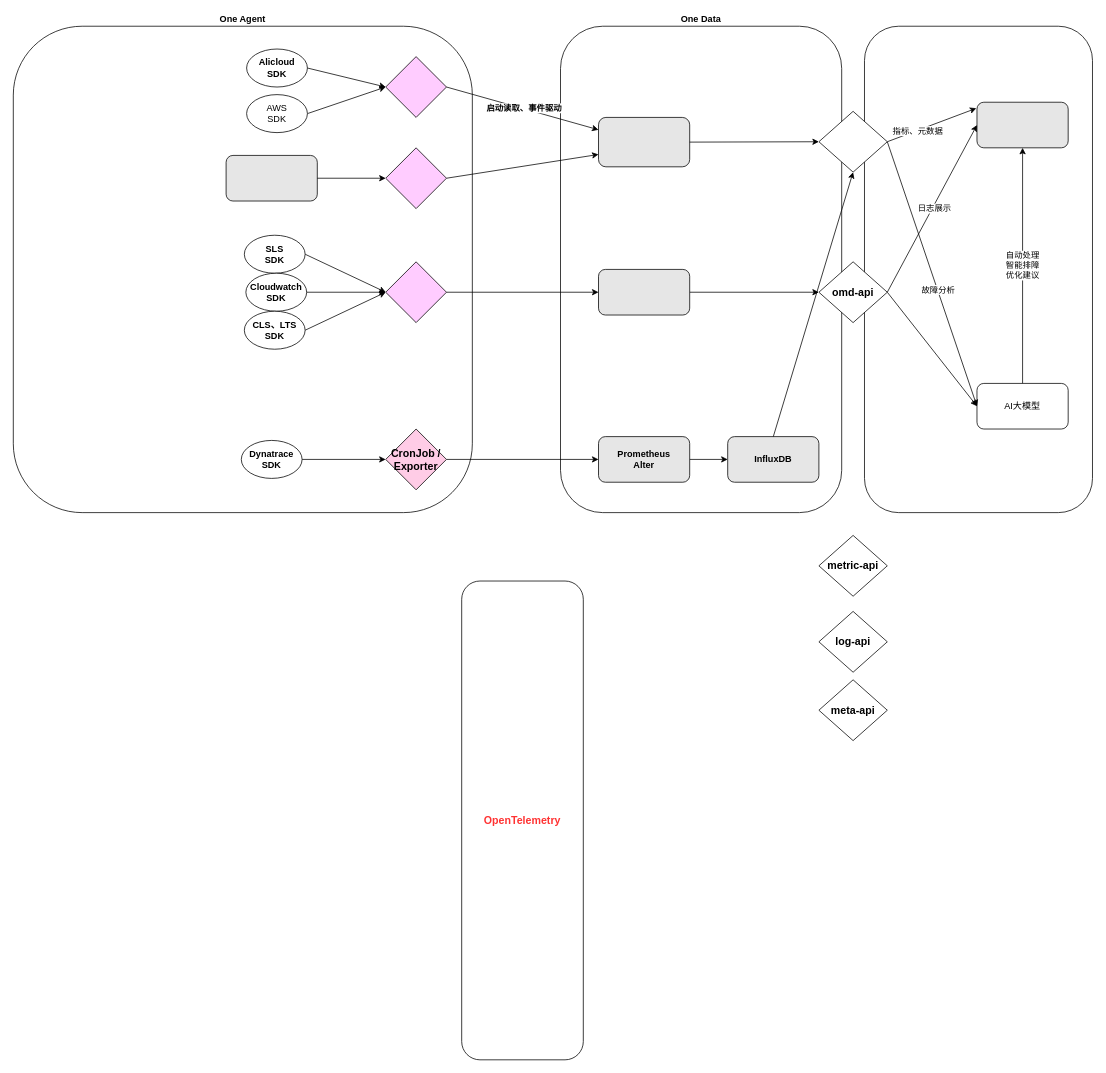
Some shapes in this 1106 by 1073 pixel diagram are drawn without their labels. Here are the shapes that lost their labels. From the top down, the box of each, then its label:
(385, 56, 446, 117): Meta Colloector
(598, 117, 690, 167): MongoDB
(818, 111, 887, 172): master-api
(976, 101, 1068, 148): 前端 Proctal
(225, 155, 317, 201): Skywalking
(385, 147, 446, 209): Trace Collector
(864, 25, 1092, 513): One Model
(385, 261, 446, 323): log-sink
(598, 269, 690, 315): ES
